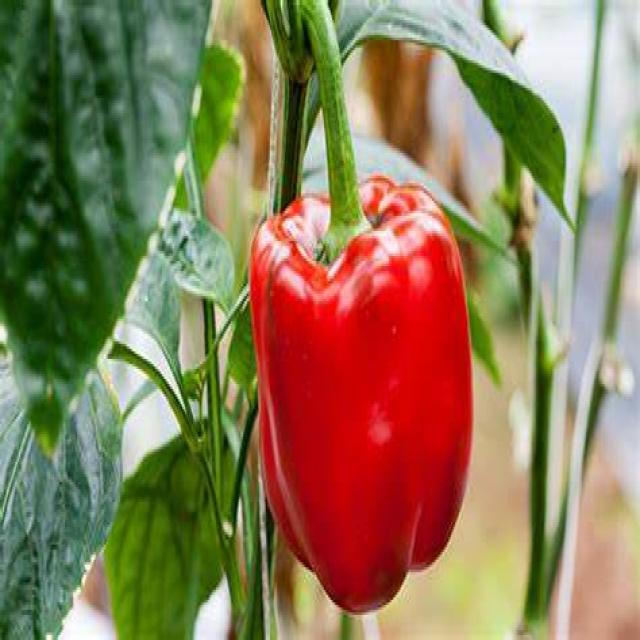Capsicum: (248, 164, 472, 615)
